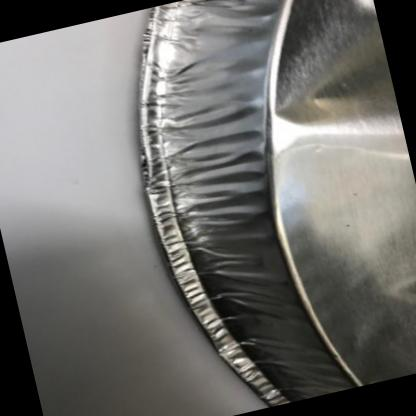Metal: (139, 0, 416, 406)
